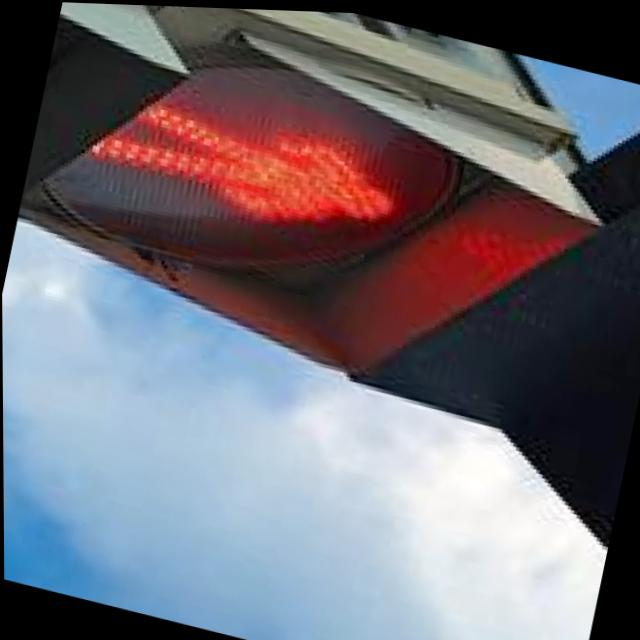red_light: (17, 0, 597, 458)
